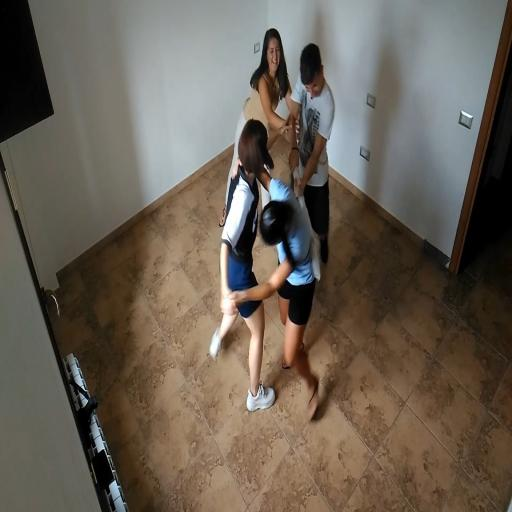violencia: (205, 112, 331, 432), (218, 0, 338, 272)
